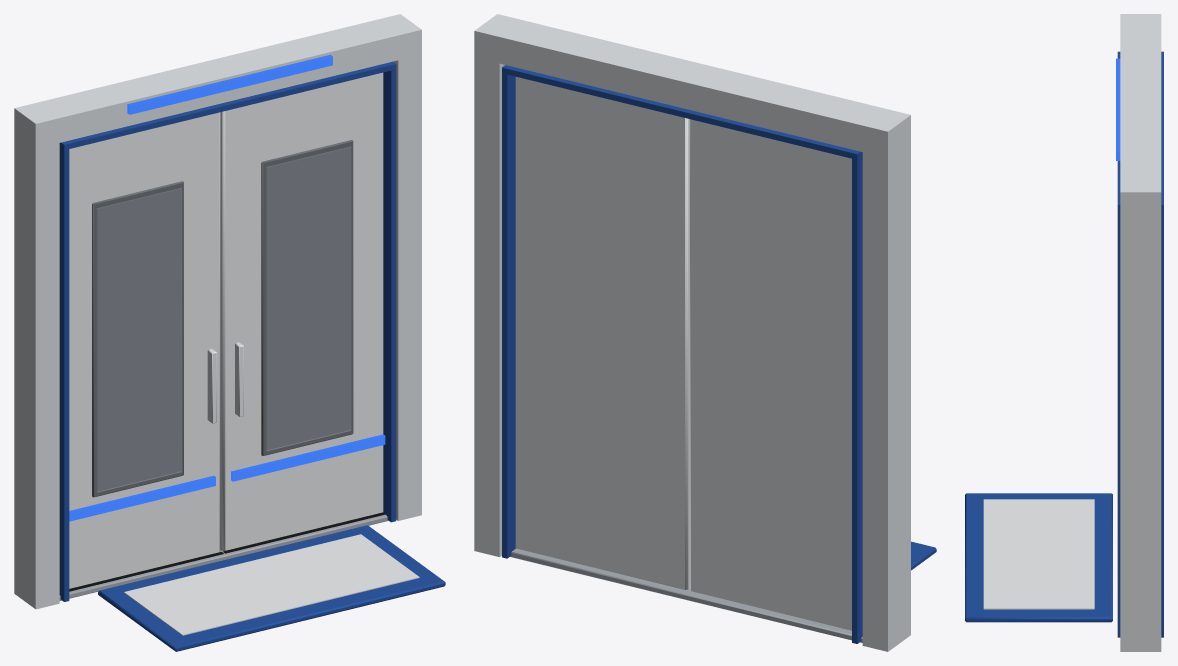
Rendered from door_cleanroom.glb.
3 views of the same model, side by side, from view 1: azimuth 30°, elevation 25°; view 2: azimuth 150°, elevation 25°; view 3: azimuth 270°, elevation 25° (orthographic). The views are drawn at different scales.
Parts seen in each view (by area): view 1: body, leaf_r, leaf_l; view 2: leaf_r, body, leaf_l; view 3: body.
Boxes of the visible parts, x1=… form: body: x1=14, y1=14, x2=445, y2=651; leaf_r: x1=220, y1=72, x2=385, y2=553; leaf_l: x1=69, y1=112, x2=223, y2=591; leaf_r: x1=515, y1=77, x2=690, y2=589; body: x1=474, y1=14, x2=936, y2=651; leaf_l: x1=690, y1=119, x2=851, y2=630; body: x1=965, y1=14, x2=1163, y2=651.
Size of the model in its own units: 2.28 by 2.74 by 1.07.
